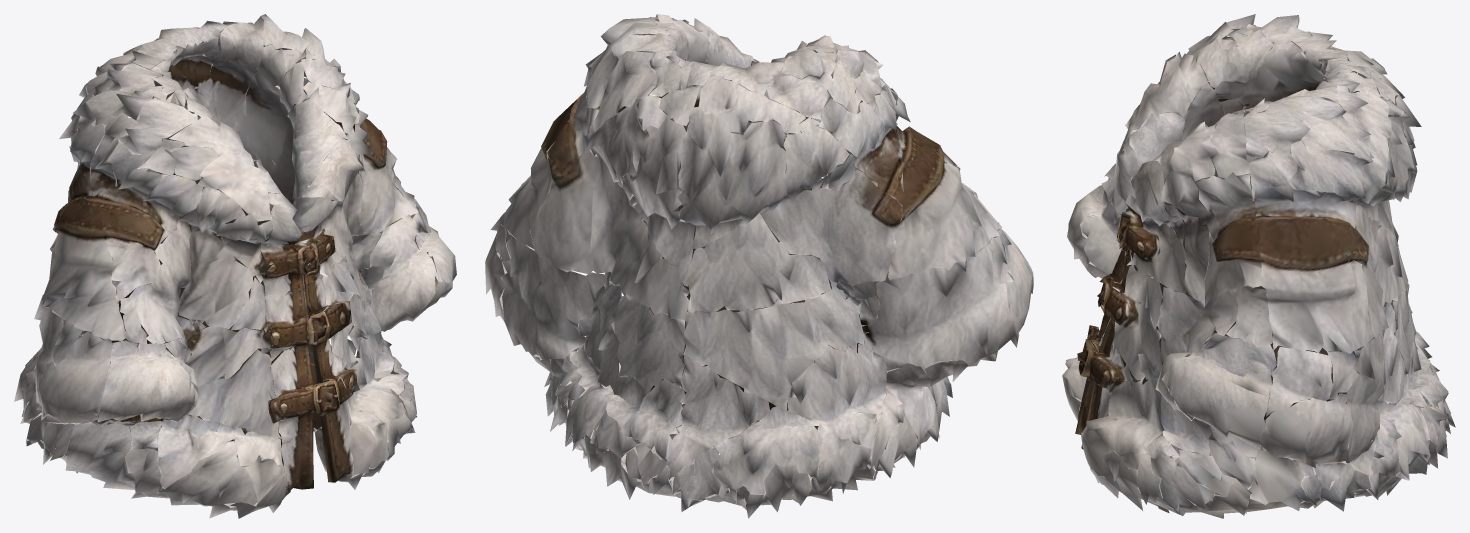
Rendered from armor_lake_fur_body.glb.
3 views of the same model, side by side, from view 1: azimuth 30°, elevation 25°; view 2: azimuth 150°, elevation 25°; view 3: azimuth 270°, elevation 25° (orthographic). The views are drawn at different scales.
Visible parts, largest first — view 1: Mesh_0; view 2: Mesh_0; view 3: Mesh_0.
Boxes of the visible parts, x1,y1,x2,y2 form: Mesh_0: [14, 14, 456, 518]; Mesh_0: [485, 14, 1033, 518]; Mesh_0: [1062, 14, 1455, 518].
Bounding box in the file's own units: 0.7192 × 0.6058 × 0.5376.
1 material, 1 textured.
